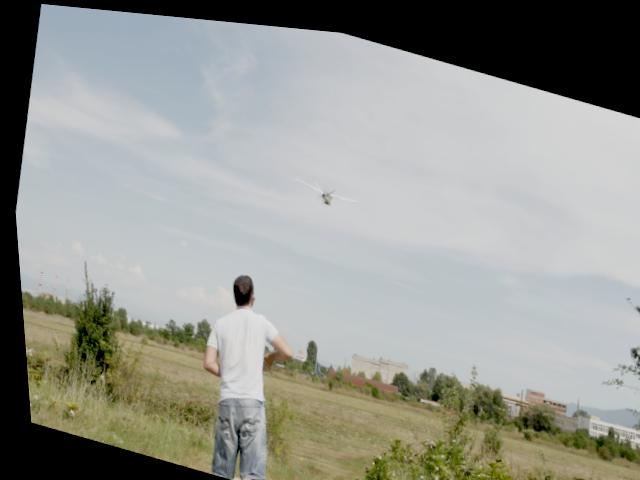plane: (288, 167, 359, 205)
